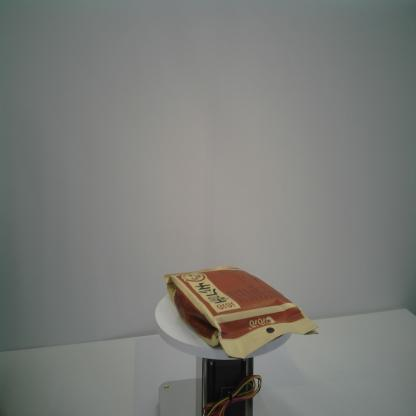Dried Food: (163, 266, 319, 360)
